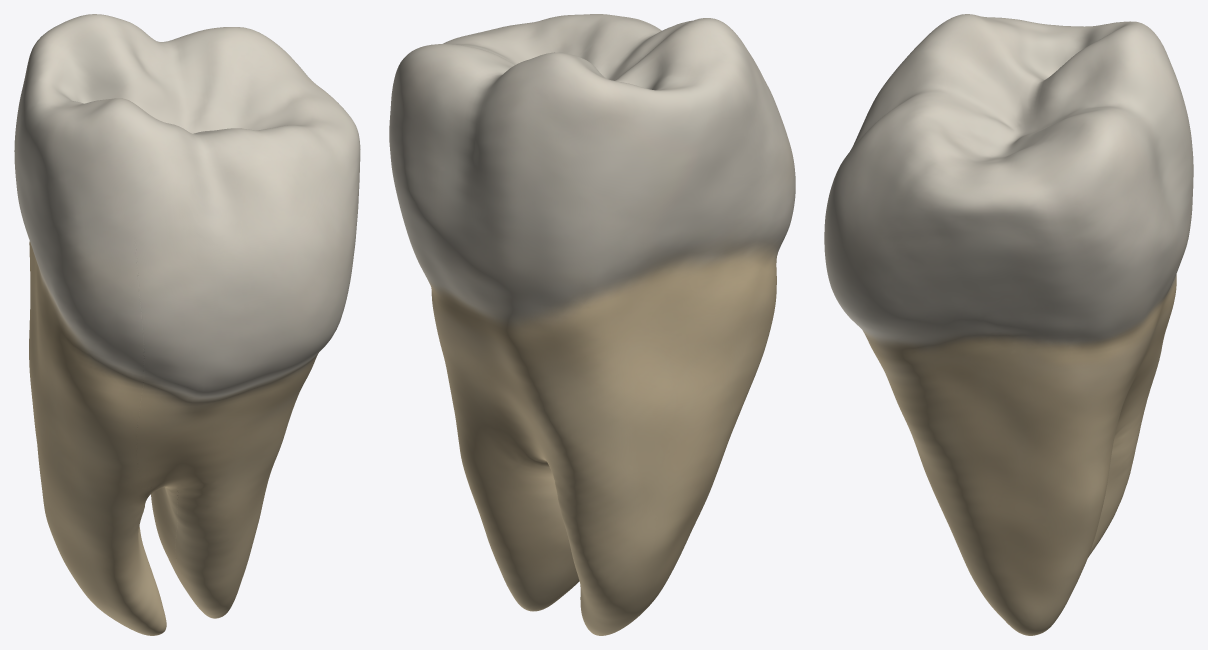
3 renders of one model, left to right at view 1: azimuth 30°, elevation 25°; view 2: azimuth 150°, elevation 25°; view 3: azimuth 270°, elevation 25°, orthographic. The views are drawn at different scales.
Visible parts, largest first — view 1: t38; view 2: t38; view 3: t38.
Part boxes in pixels (<box>): t38: <box>14,14,360,635</box>; t38: <box>389,14,795,635</box>; t38: <box>824,14,1193,635</box>.
Size of the model in its own units: 9.85 by 18 by 10.46.
Materials: 1 (1 with a texture image).
